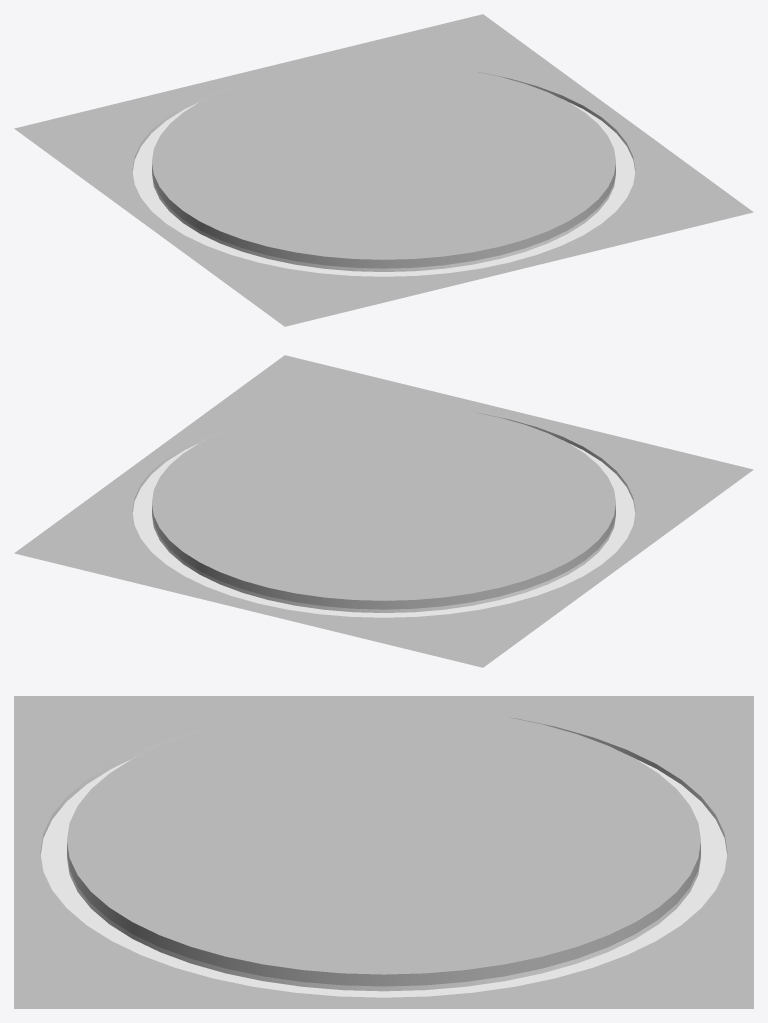
File: Ceiling02_1400x1400cm.FBX
3 views of the same model, one above another, from view 1: azimuth 30°, elevation 25°; view 2: azimuth 150°, elevation 25°; view 3: azimuth 270°, elevation 25° (orthographic). The views are drawn at different scales.
Visible parts, largest first — view 1: Ceiling02_1400x1400cm; view 2: Ceiling02_1400x1400cm; view 3: Ceiling02_1400x1400cm.
Boxes of the visible parts, bbox=[...] form: Ceiling02_1400x1400cm: bbox=[14, 14, 753, 326]; Ceiling02_1400x1400cm: bbox=[14, 355, 753, 667]; Ceiling02_1400x1400cm: bbox=[14, 696, 753, 1008].
Bounding box in the file's own units: 1400 × 35 × 1400.
